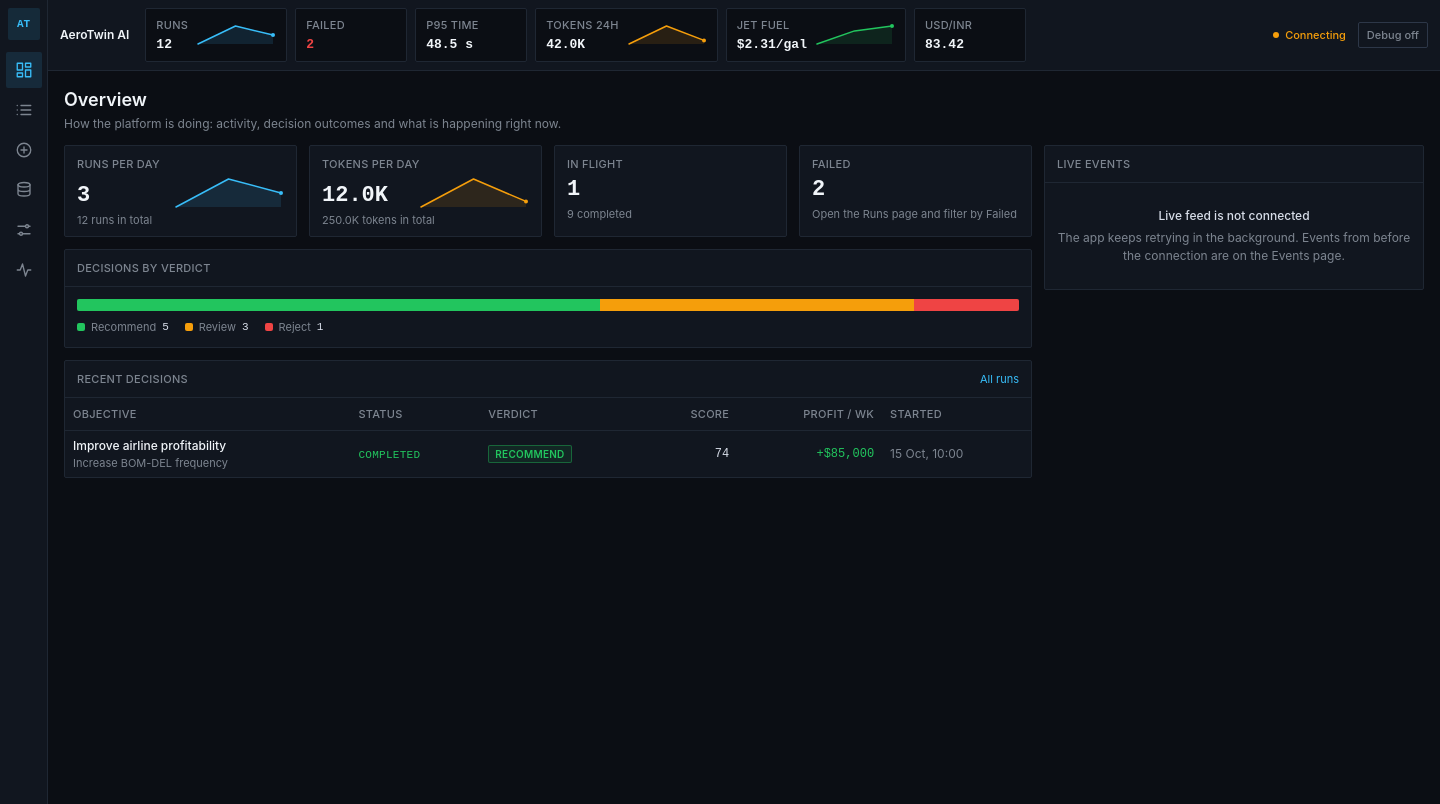
App › navigates with the icon rail
Click the link named "Data" at (24, 190), box [14,181,32,199]
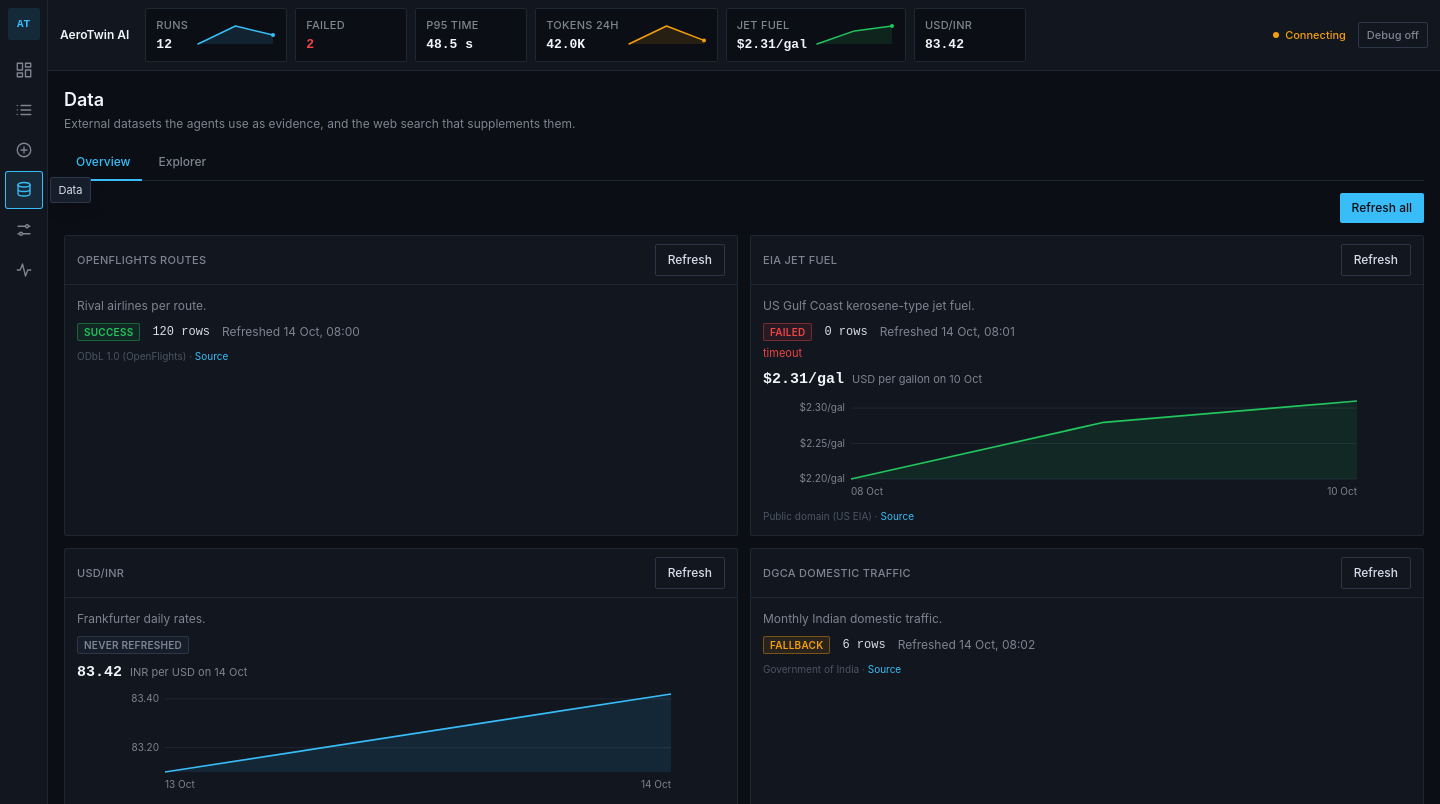
Expected: the heading "Data" is shown, [64,89,104,110]
